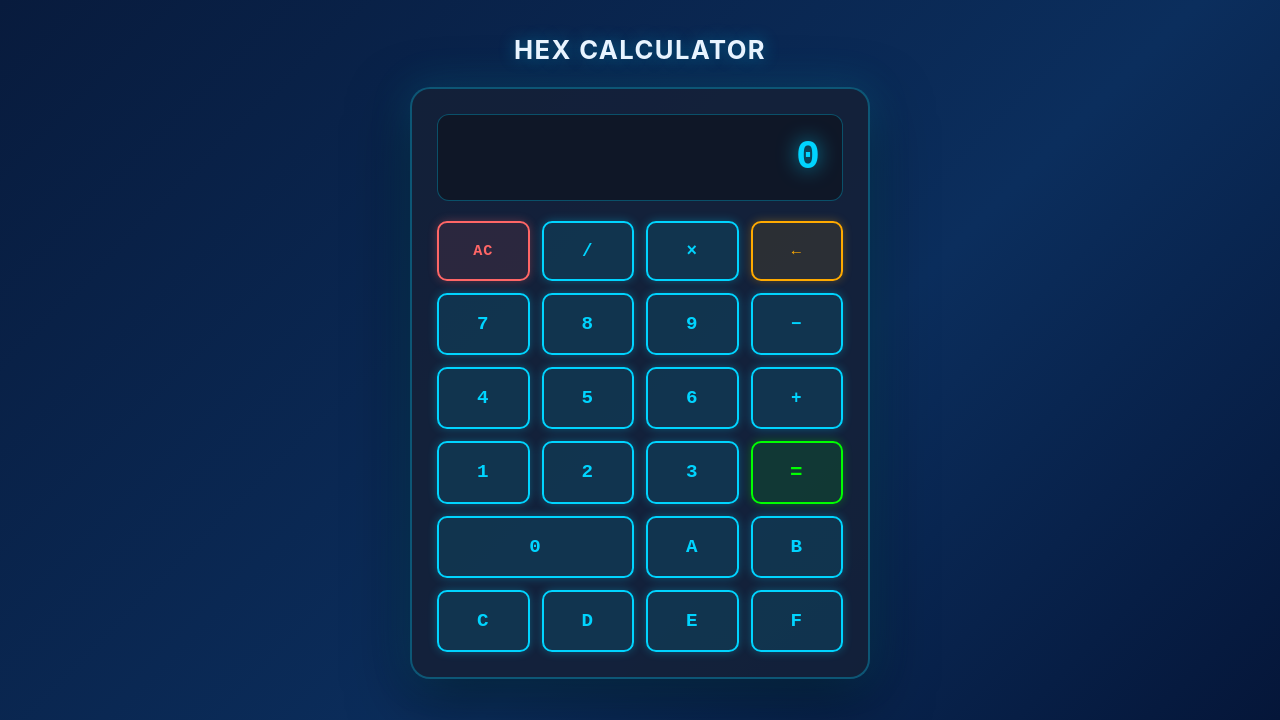
Test: Hex Number Buttons › clicking two digits shows both on display
What coordinates should you click on to do the following:
click the button with test id "btn-F"
I would click on:
 (797, 620)
Its box is [750, 590, 843, 652].
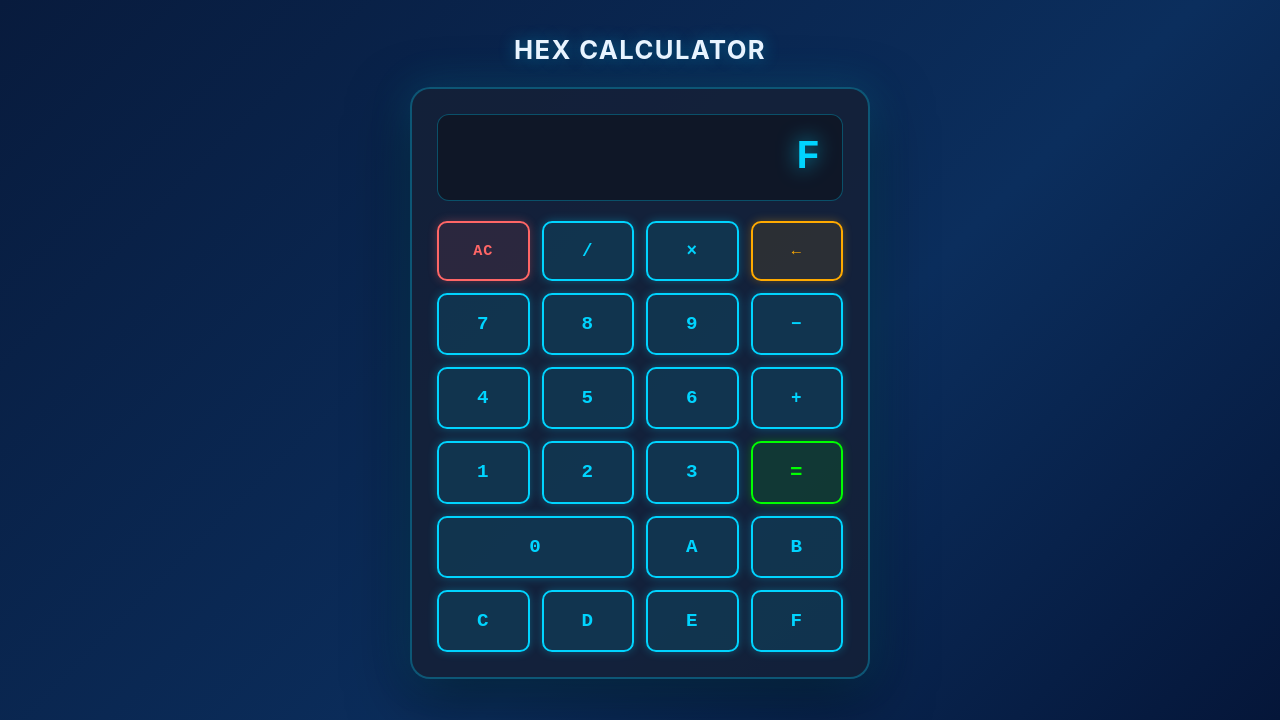
What coordinates should you click on to do the following:
click the button with test id "btn-F"
I would click on:
 (797, 620)
Its box is [750, 590, 843, 652].
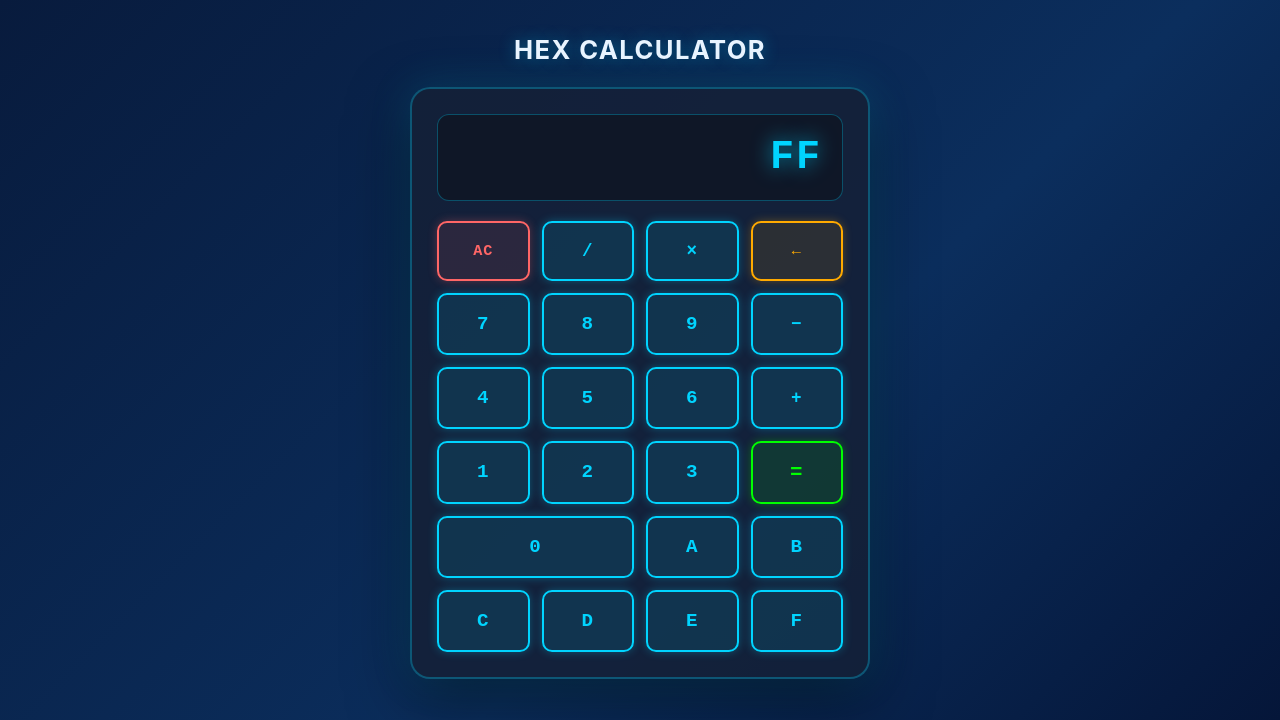
Expected: the text with test id "display" reads "FF", [770, 134, 822, 180]
